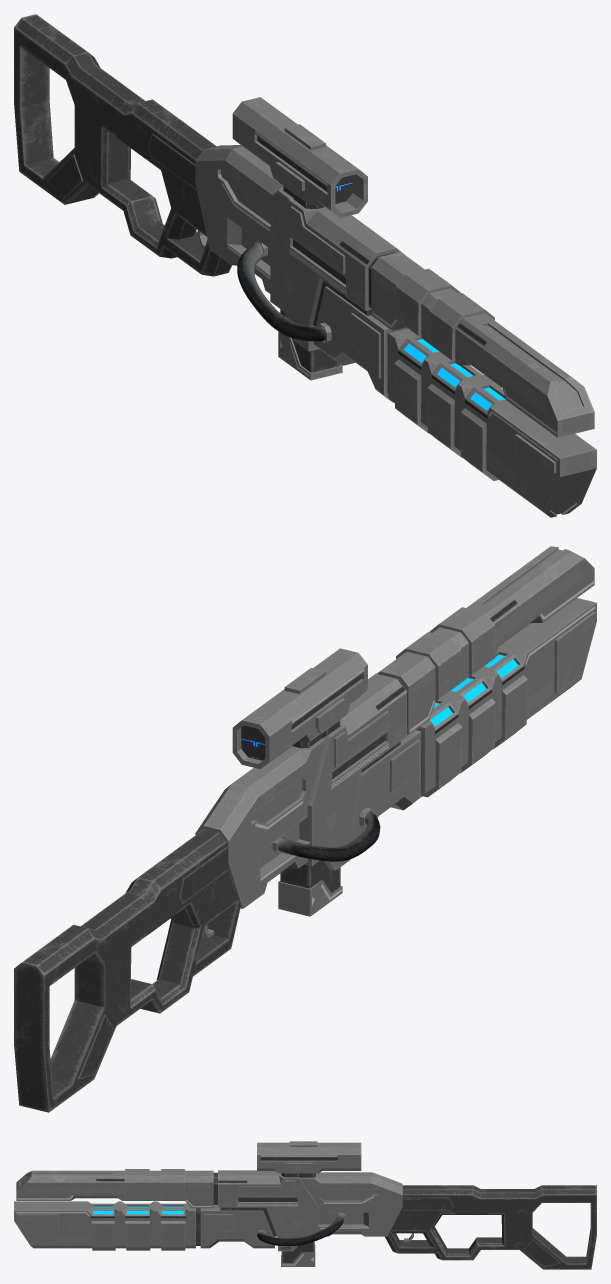
Rendered from laser_gun.glb.
3 views of the same model, one above another, from view 1: azimuth 30°, elevation 25°; view 2: azimuth 150°, elevation 25°; view 3: azimuth 270°, elevation 25° (orthographic). The views are drawn at different scales.
Visible parts, largest first — view 1: StockModel, MainBodyModel, BodyC2Model, BodyC3Model, ScopeModel, BodyC1Model, TubeModel, CartridgeModel; view 2: StockModel, MainBodyModel, BodyC2Model, BodyC3Model, ScopeModel, BodyC1Model, CartridgeModel, TubeModel; view 3: StockModel, MainBodyModel, BodyC2Model, BodyC3Model, ScopeModel, BodyC1Model, TubeModel, CartridgeModel.
Boxes of the visible parts, bbox=[...] form: StockModel: bbox=[14, 14, 231, 276]; MainBodyModel: bbox=[195, 145, 404, 351]; BodyC2Model: bbox=[388, 328, 596, 517]; BodyC3Model: bbox=[371, 252, 594, 437]; ScopeModel: bbox=[232, 97, 367, 217]; BodyC1Model: bbox=[314, 286, 407, 402]; TubeModel: bbox=[237, 243, 325, 341]; CartridgeModel: bbox=[278, 309, 342, 380]; StockModel: bbox=[14, 828, 240, 1112]; MainBodyModel: bbox=[195, 673, 407, 908]; BodyC2Model: bbox=[416, 598, 596, 797]; BodyC3Model: bbox=[377, 546, 594, 734]; ScopeModel: bbox=[232, 648, 367, 768]; BodyC1Model: bbox=[350, 730, 421, 841]; CartridgeModel: bbox=[278, 860, 342, 916]; TubeModel: bbox=[278, 811, 380, 861]; StockModel: bbox=[385, 1185, 596, 1269]; MainBodyModel: bbox=[213, 1170, 402, 1251]; BodyC2Model: bbox=[14, 1201, 195, 1250]; BodyC3Model: bbox=[16, 1169, 213, 1208]; ScopeModel: bbox=[257, 1141, 361, 1173]; BodyC1Model: bbox=[196, 1205, 274, 1248]; TubeModel: bbox=[256, 1215, 344, 1246]; CartridgeModel: bbox=[281, 1241, 315, 1266].
Size of the model in its own units: 0.1251 by 0.2983 by 1.29.
5 materials, 5 textured.
